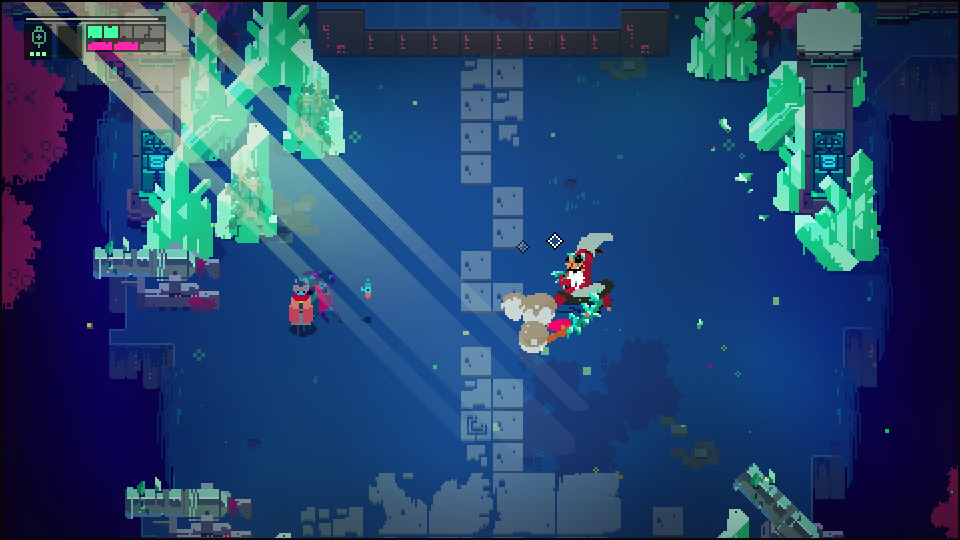hanged_man: (538, 228, 618, 344)
player: (287, 277, 318, 337)
